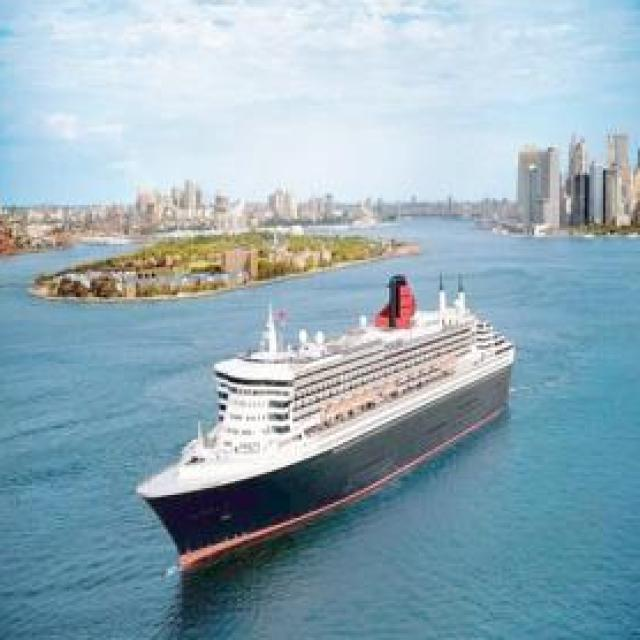passenger ship: (144, 270, 514, 569)
